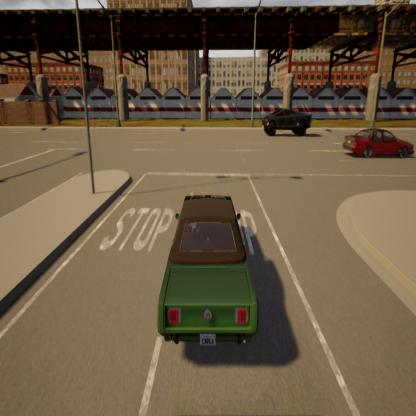Cars: (155, 186, 266, 361), (337, 124, 416, 162), (260, 102, 316, 143)
